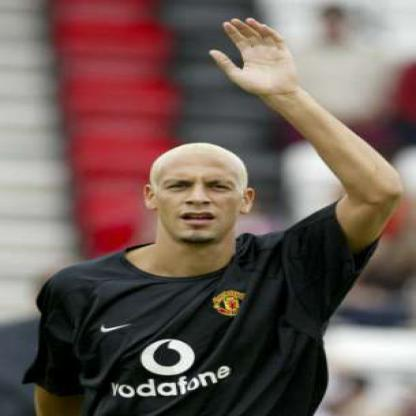face: (153, 145, 247, 243)
